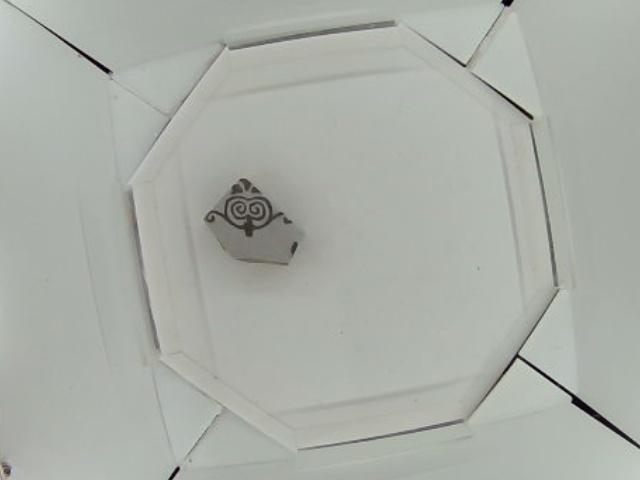China: (207, 179, 301, 272)
